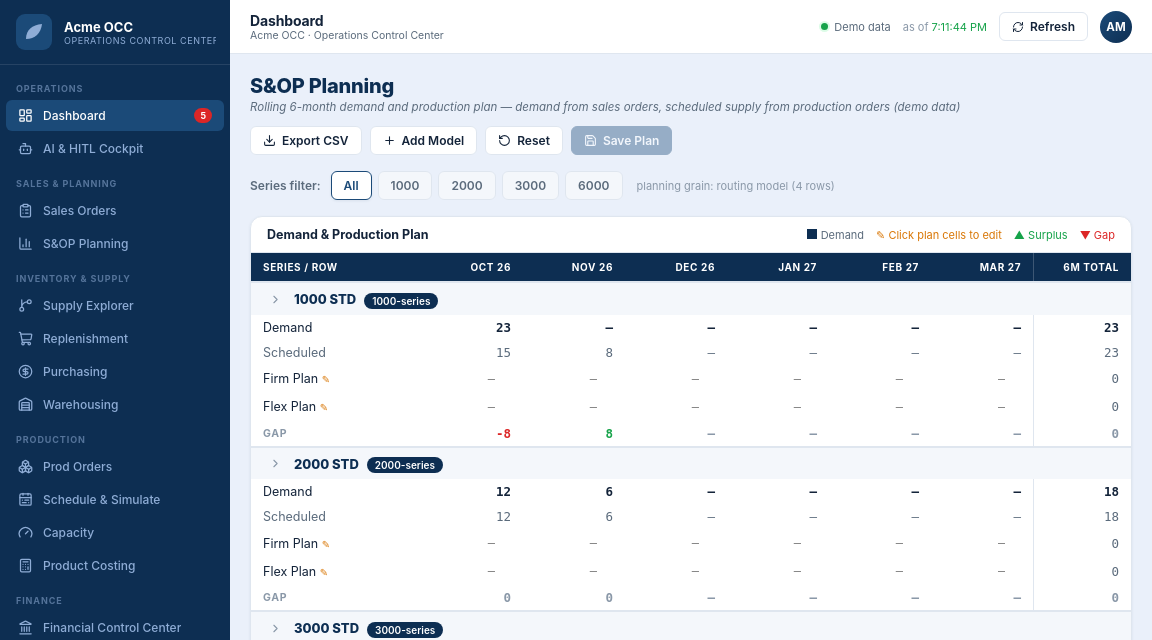
Test: S&OP page › expands the finished-good sheet and saves an item-level plan
expect the heading "S&OP Planning" is shown: met, box [250, 74, 394, 98]
Click the button named "Show finished goods for 1000 STD". click: (276, 301)
box: [263, 292, 288, 310]
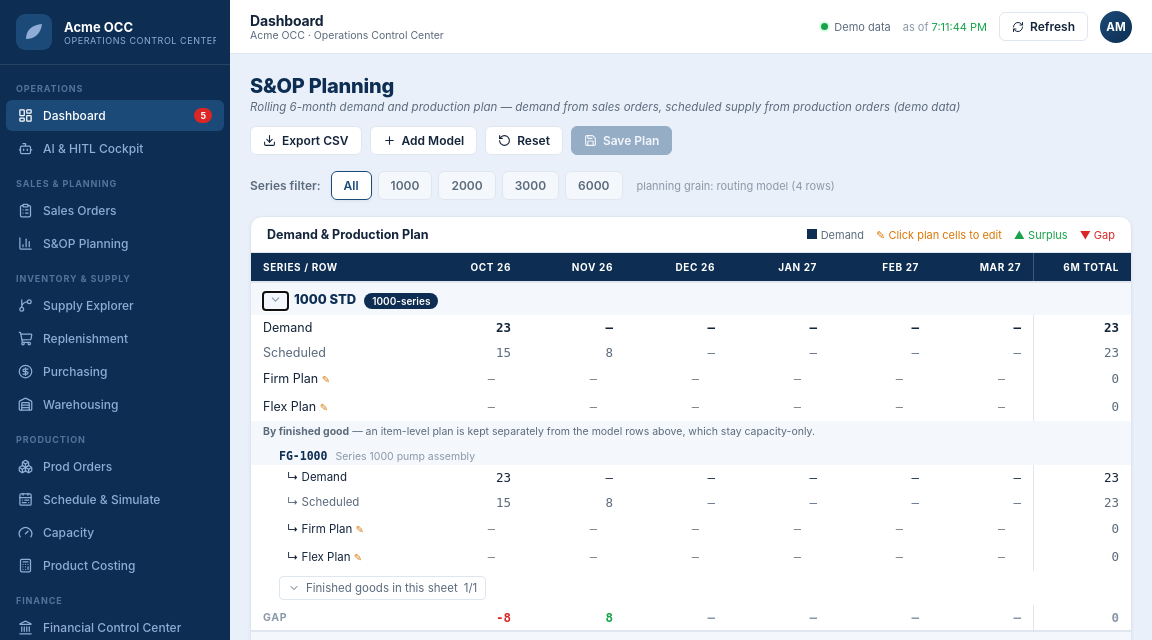
expect the text "FG-1000" is shown: met, box [279, 449, 328, 463]
Type "4" into the number field named "Firm Plan 1000 STD|FG-1000 Dec 26". click: (685, 529)
box: [649, 517, 721, 541]
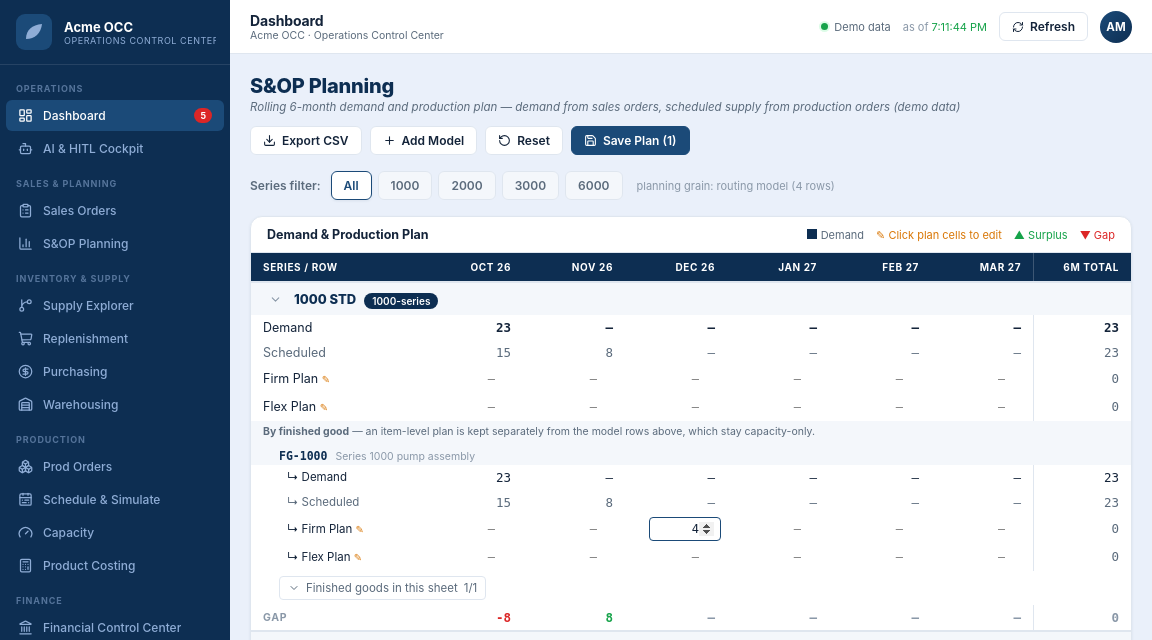
Click the button "Save Plan (1)". click: (630, 140)
box: [571, 126, 690, 155]
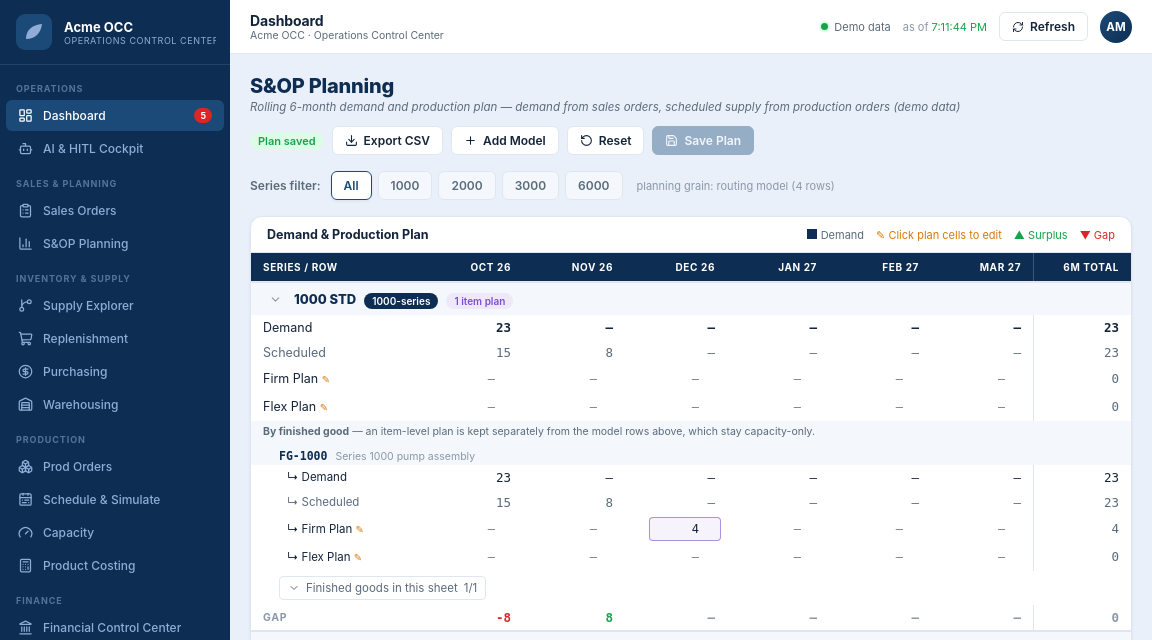
expect the text "Plan saved" is shown: met, box [250, 132, 324, 150]
expect the text "1 item plan" is shown: met, box [446, 293, 513, 309]
